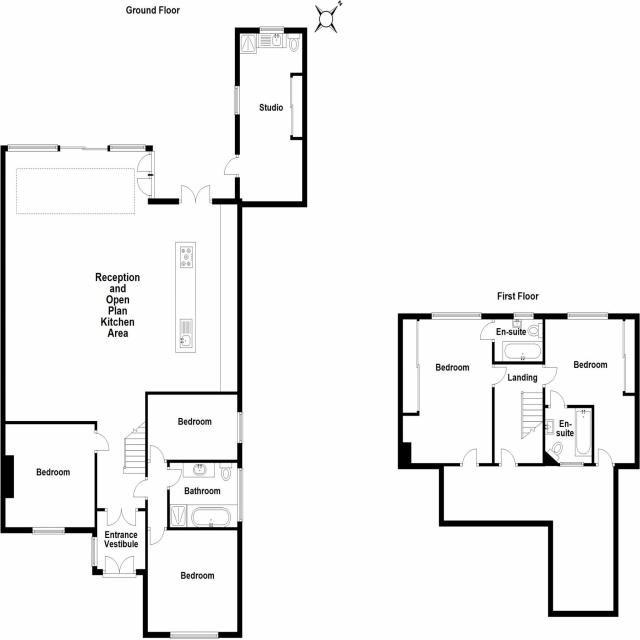DOOR: (137, 151, 155, 175), (137, 175, 155, 199), (167, 466, 183, 491), (459, 448, 480, 467), (94, 430, 110, 454), (595, 448, 615, 467), (548, 390, 568, 408), (542, 364, 557, 388), (492, 364, 507, 388), (498, 448, 518, 466), (147, 527, 167, 545), (147, 445, 167, 463)
DOUBLE DOOR: (179, 181, 212, 205)
ROOM: (0, 145, 242, 425), (398, 312, 507, 469), (542, 312, 640, 470), (0, 421, 110, 535), (143, 527, 242, 639), (145, 391, 243, 463)
SLIDING DOOR: (58, 144, 109, 153)
WINDOW: (170, 631, 219, 640), (431, 312, 482, 320), (7, 144, 58, 152), (567, 312, 608, 320), (237, 468, 243, 522), (110, 144, 146, 152), (31, 527, 66, 535), (91, 536, 98, 567), (237, 412, 243, 444), (513, 312, 534, 320), (560, 462, 584, 467)
